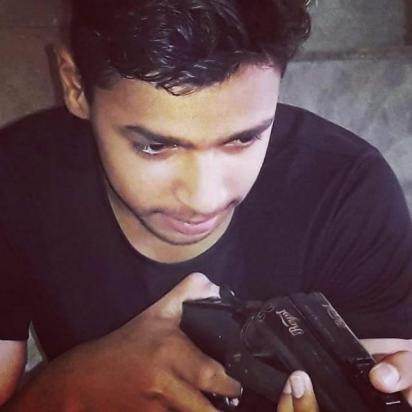Gun: (171, 289, 412, 412)
